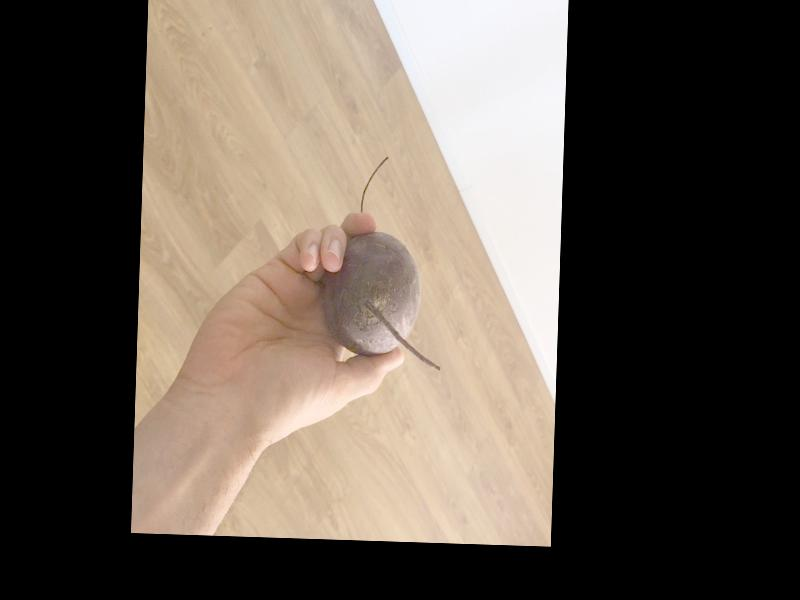Beet: (319, 153, 446, 369)
